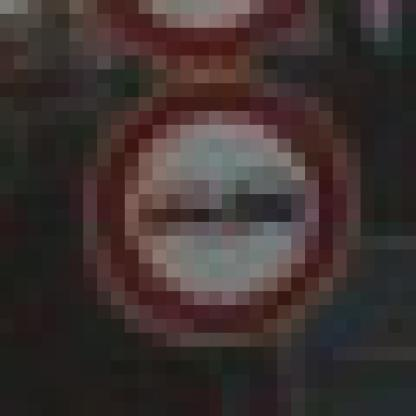No Overtaking: (84, 70, 348, 348)
